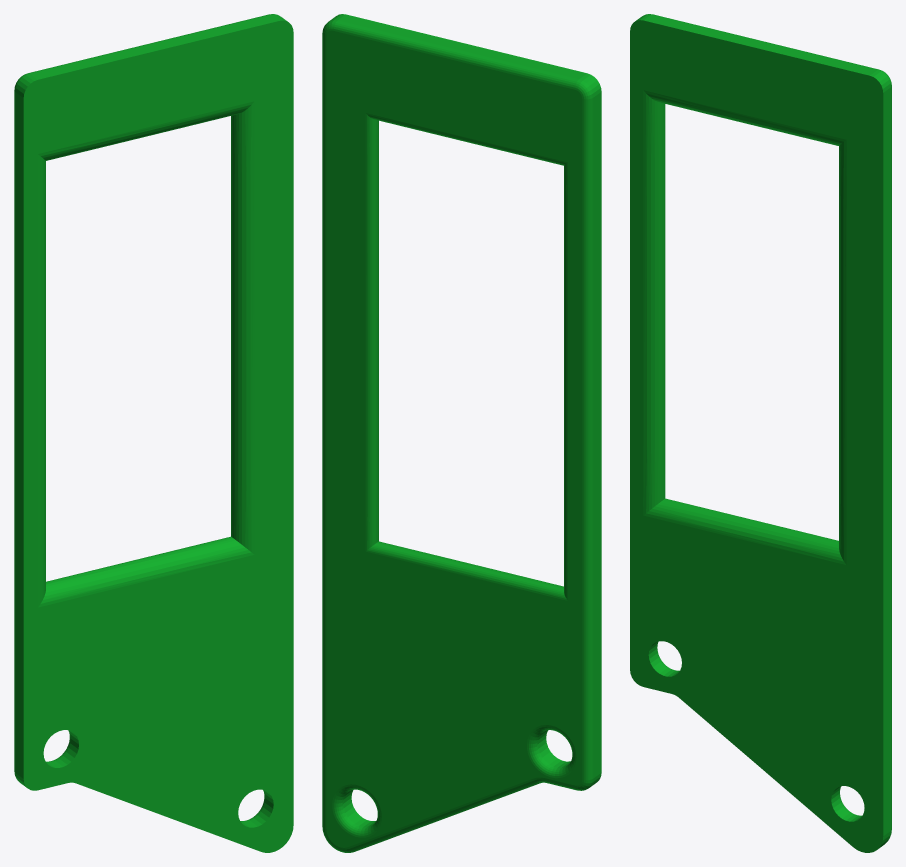
Rendered from cover-3dp-cutout.glb.
3 renders of one model, left to right at view 1: azimuth 30°, elevation 25°; view 2: azimuth 150°, elevation 25°; view 3: azimuth 330°, elevation 25°, orthographic. The views are drawn at different scales.
Bounding box in the file's own units: 0.019 × 0.0558 × 0.0015.
